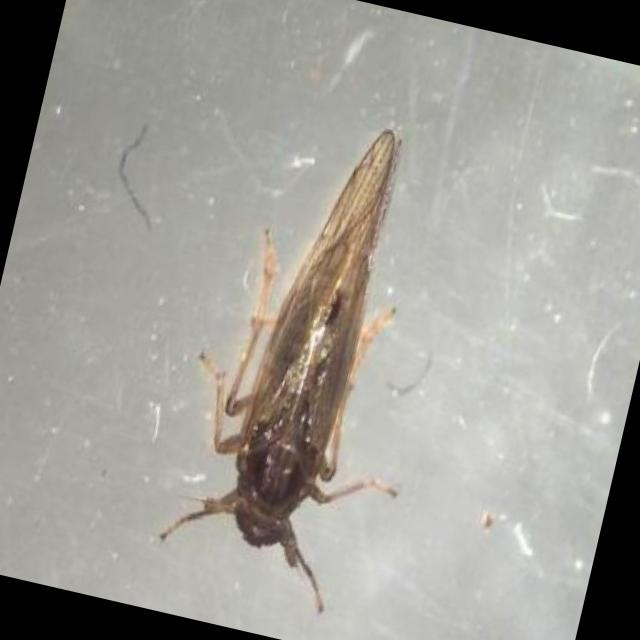brown-planthopper: (153, 96, 448, 599)
